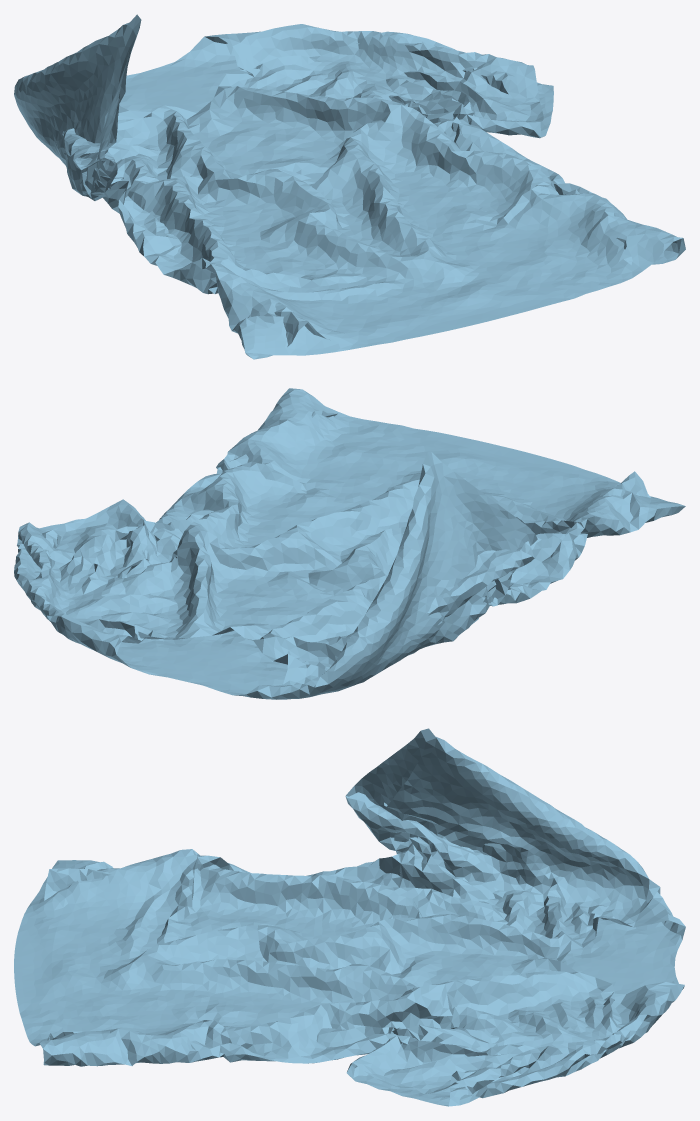
File: frame_11.glb
3 renders of one model, top to bottom at view 1: azimuth 30°, elevation 25°; view 2: azimuth 150°, elevation 25°; view 3: azimuth 270°, elevation 25°, orthographic. The views are drawn at different scales.
Parts seen in each view (by area): view 1: frame_11.obj; view 2: frame_11.obj; view 3: frame_11.obj.
Boxes of the visible parts, <box> form: frame_11.obj: <box>14,14,685,359</box>; frame_11.obj: <box>14,388,685,699</box>; frame_11.obj: <box>14,728,685,1106</box>.
Size of the model in its own units: 1.48 by 0.5216 by 1.73.
